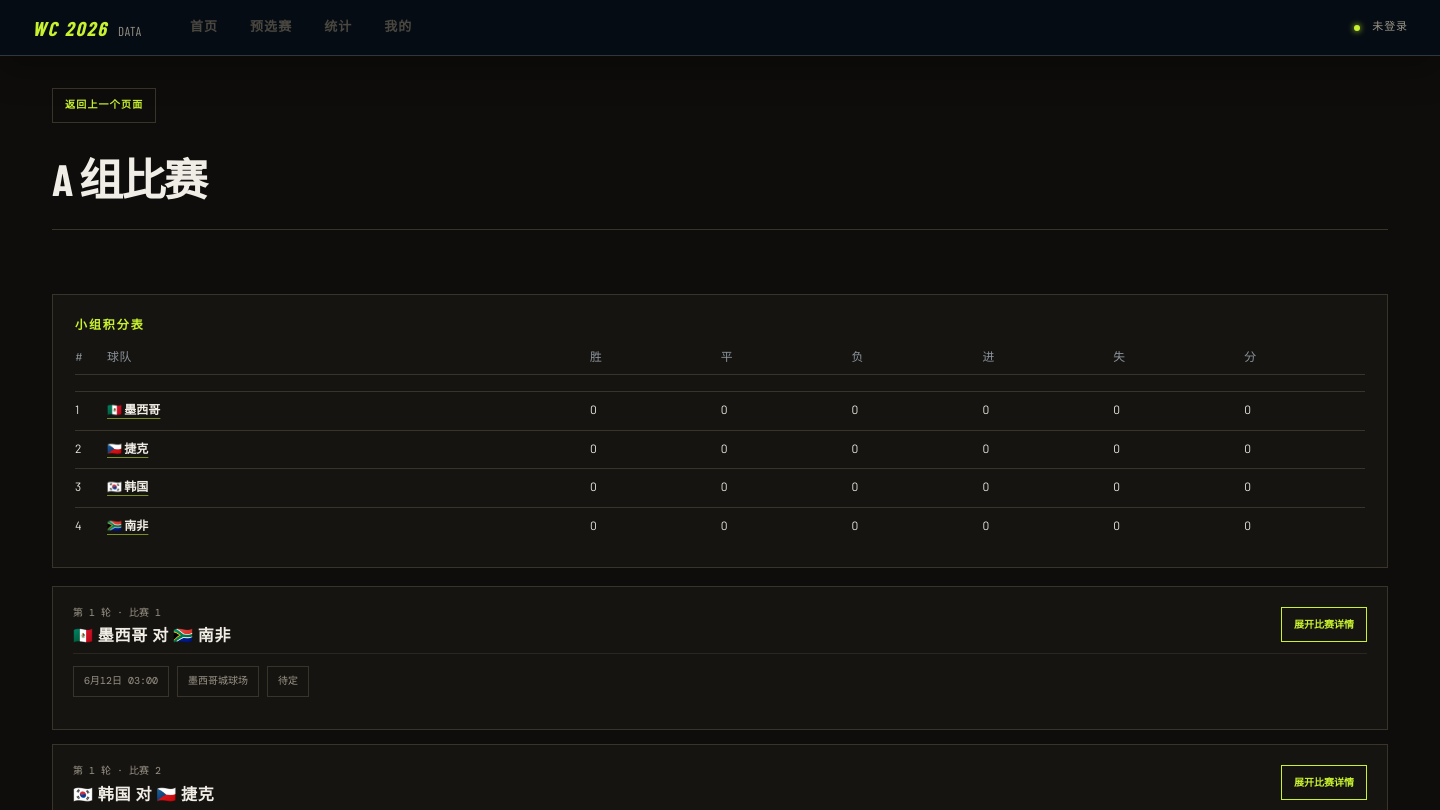
Test: App routes › renders every group-stage match on the group detail page
Expected: the heading "A 组比赛" is shown, [52,152,206,205]
Expected: the heading "🇲🇽 墨西哥 对 🇿🇦 南非" is shown, [73,626,231,645]
Click the 1st button "展开比赛详情" at (1324, 624), box [1281,607,1367,642]
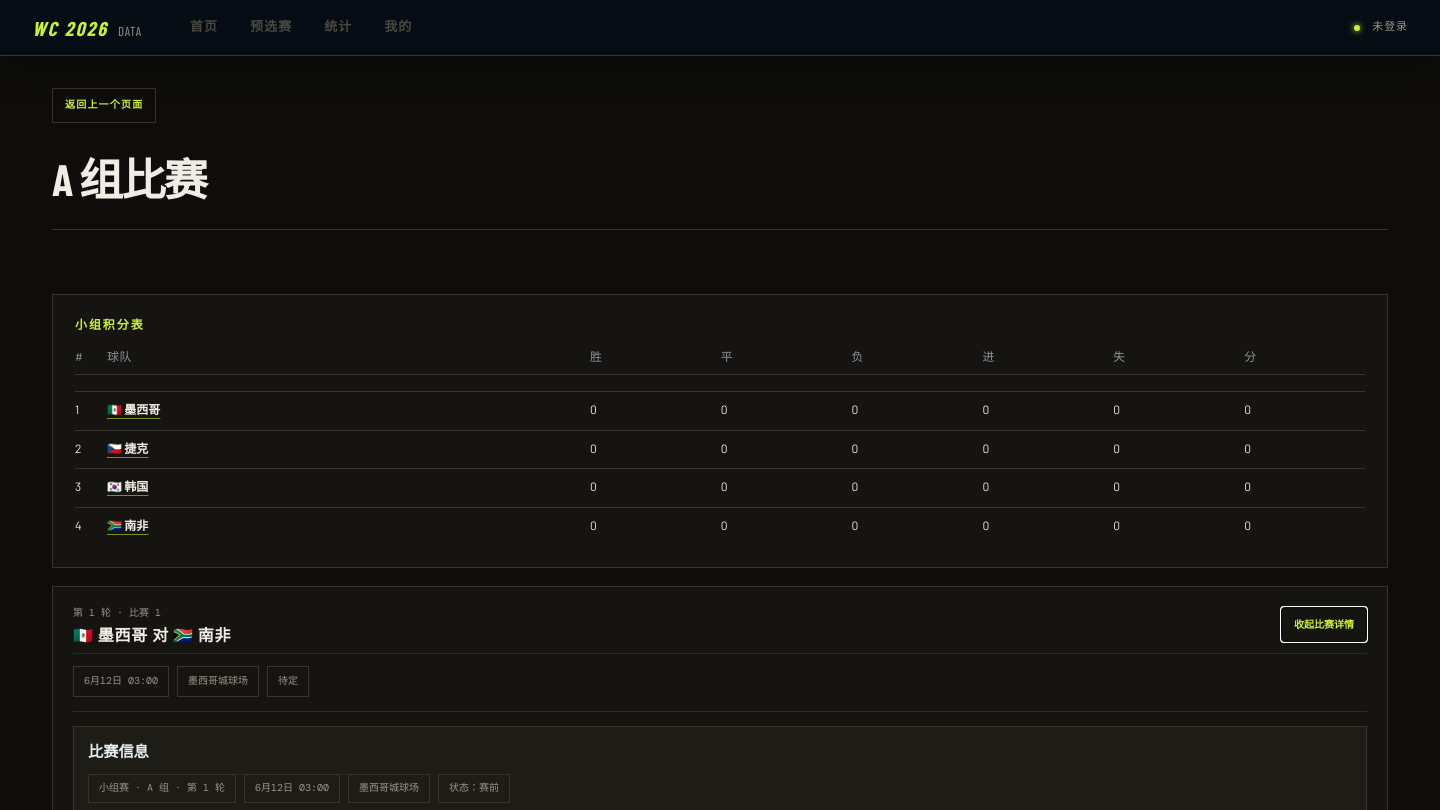
Expected: the heading "比赛信息" is shown, [88,743,149,761]
Expected: the button "收起比赛详情" is shown, [1281,607,1367,642]
